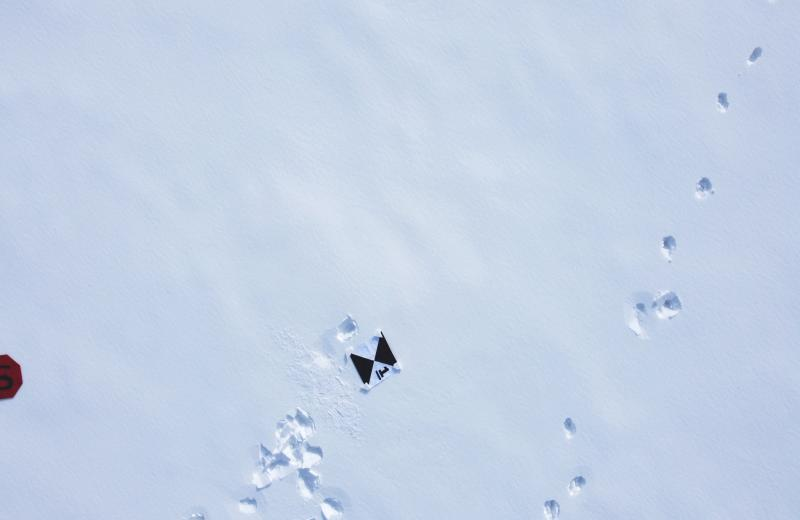Octagon: (0, 353, 24, 402)
